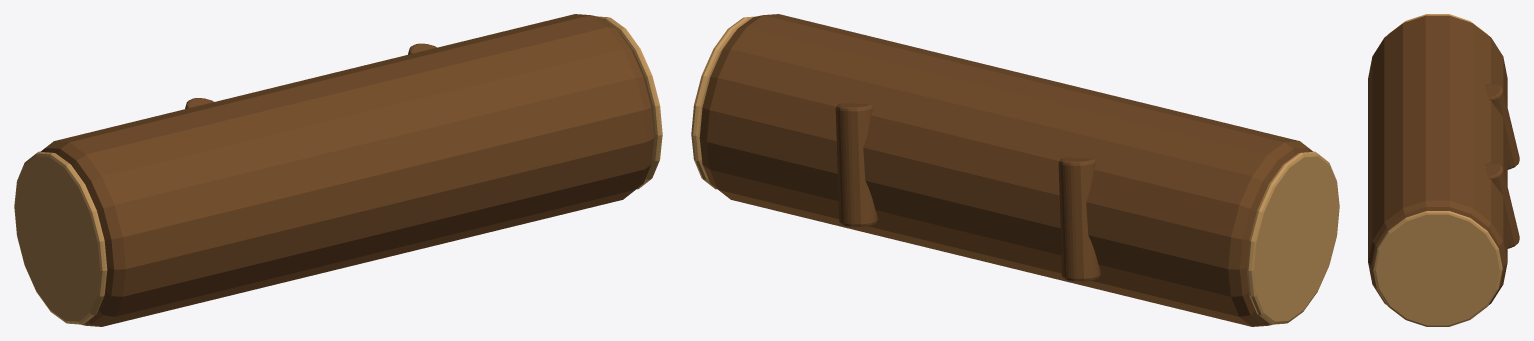
Rendered from log.glb.
3 renders of one model, left to right at view 1: azimuth 30°, elevation 25°; view 2: azimuth 150°, elevation 25°; view 3: azimuth 270°, elevation 25°, orthographic. The views are drawn at different scales.
Parts seen in each view (by area): view 1: Log, Cut_End_L, Cut_End_R; view 2: Log, Cut_End_L, Broken_Branch, Broken_Branch.001, Cut_End_R; view 3: Log, Cut_End_R, Broken_Branch, Broken_Branch.001, Cut_End_L.
Boxes of the visible parts, x1,y1,x2,y2 form: Log: (40,14,654,326); Cut_End_L: (14,151,107,324); Cut_End_R: (597,16,662,189); Log: (699,14,1313,326); Cut_End_L: (1246,151,1339,324); Broken_Branch: (1058,157,1100,281); Broken_Branch.001: (835,103,878,227); Cut_End_R: (691,16,756,189); Log: (1368,15,1507,305); Cut_End_R: (1373,211,1502,326); Broken_Branch: (1485,84,1519,169); Broken_Branch.001: (1485,163,1519,248); Cut_End_L: (1388,14,1487,34).
Bounding box in the file's own units: 1.49 × 0.4333 × 0.4787.
